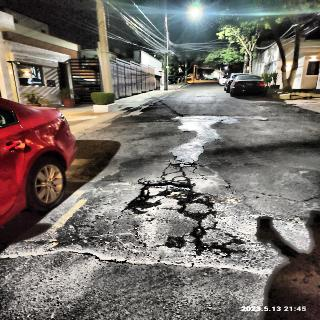alligator-crack: (160, 192, 245, 258), (88, 216, 152, 252), (139, 160, 209, 192), (117, 120, 226, 124)
crack: (0, 248, 277, 277)
